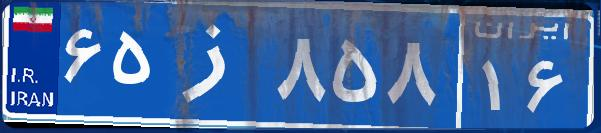1: (475, 38, 525, 113)
5: (330, 28, 385, 110), (110, 28, 158, 105)
6: (57, 26, 110, 107), (525, 38, 570, 115)
8: (385, 28, 445, 110), (273, 28, 330, 110)
ز: (158, 15, 273, 115)
